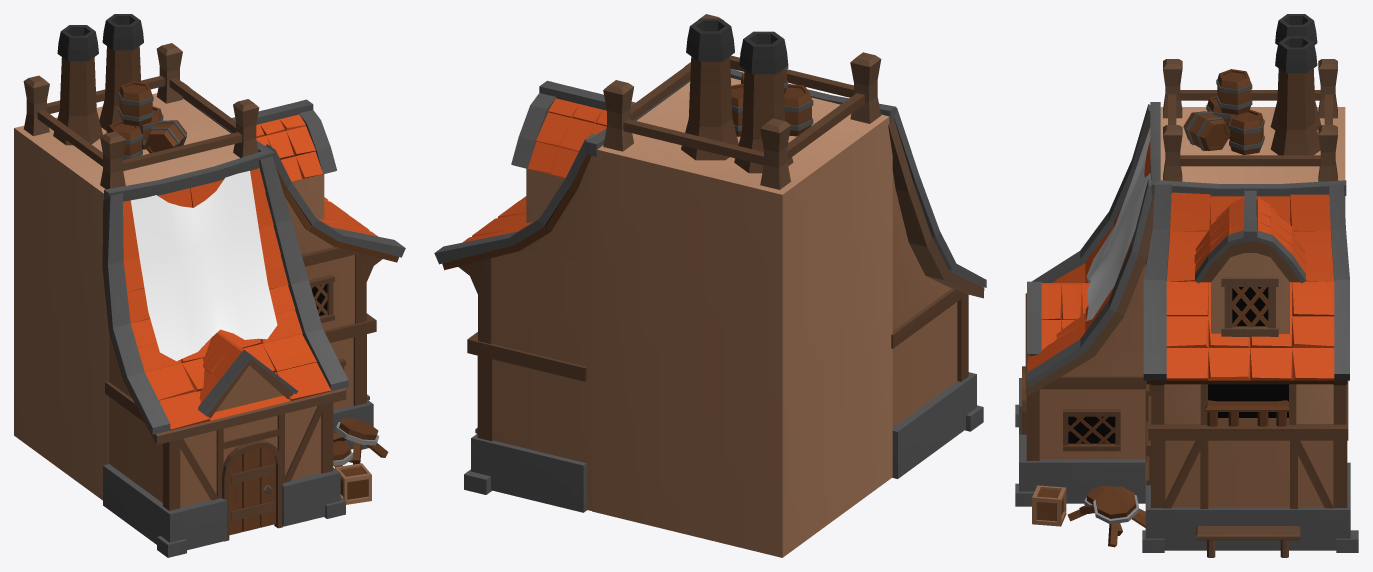
Rendered from Town Hall Level 9.glb.
The picture shows the model from 3 angles, left to right: view 1: azimuth 30°, elevation 25°; view 2: azimuth 150°, elevation 25°; view 3: azimuth 270°, elevation 25°; orthographic projection. The views are drawn at different scales.
Visible parts, largest first — view 1: Town Hall Level 9 Base, Flag.009, Door.009; view 2: Town Hall Level 9 Base; view 3: Town Hall Level 9 Base, Flag.009.
Boxes of the visible parts, x1,y1,x2,y2 form: Town Hall Level 9 Base: (14, 14, 405, 557); Flag.009: (131, 170, 277, 361); Door.009: (229, 448, 275, 535); Town Hall Level 9 Base: (434, 14, 986, 557); Town Hall Level 9 Base: (1015, 14, 1358, 557); Flag.009: (1086, 127, 1150, 321).
Size of the model in its own units: 7 by 8.95 by 6.59.
2 materials, 2 textured.
